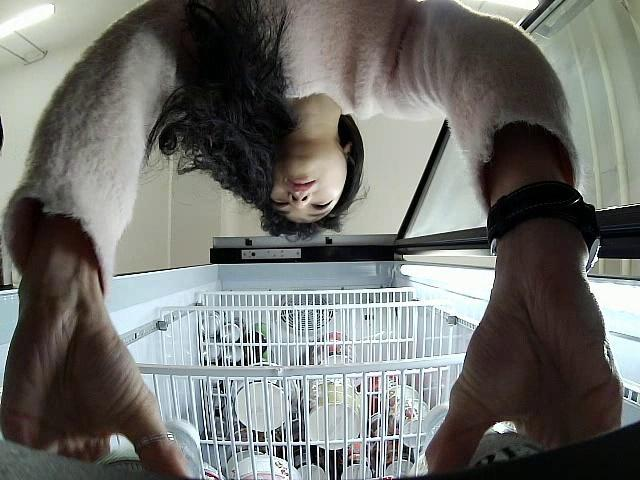18_trevi: (427, 398, 548, 475), (92, 415, 204, 480)
